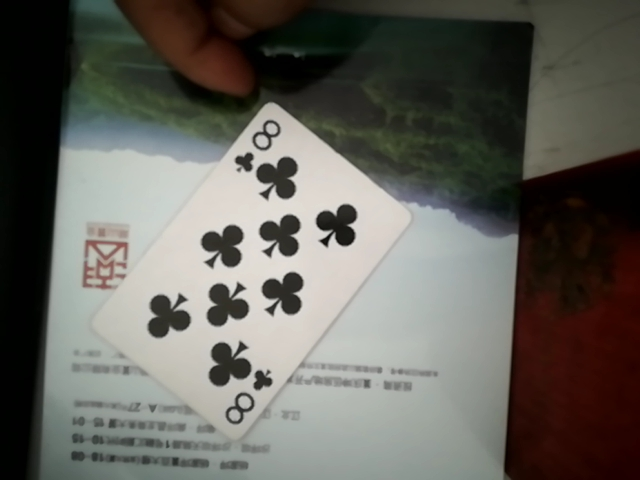mh 8: (80, 99, 404, 431)
